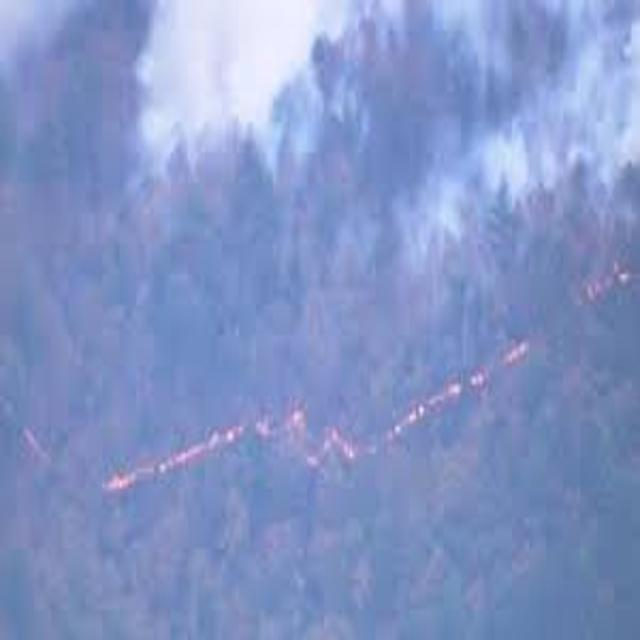Fire: (91, 424, 261, 518), (387, 351, 484, 458), (258, 398, 383, 481), (482, 306, 554, 392)
Smoke: (402, 108, 640, 234), (145, 0, 332, 152)
